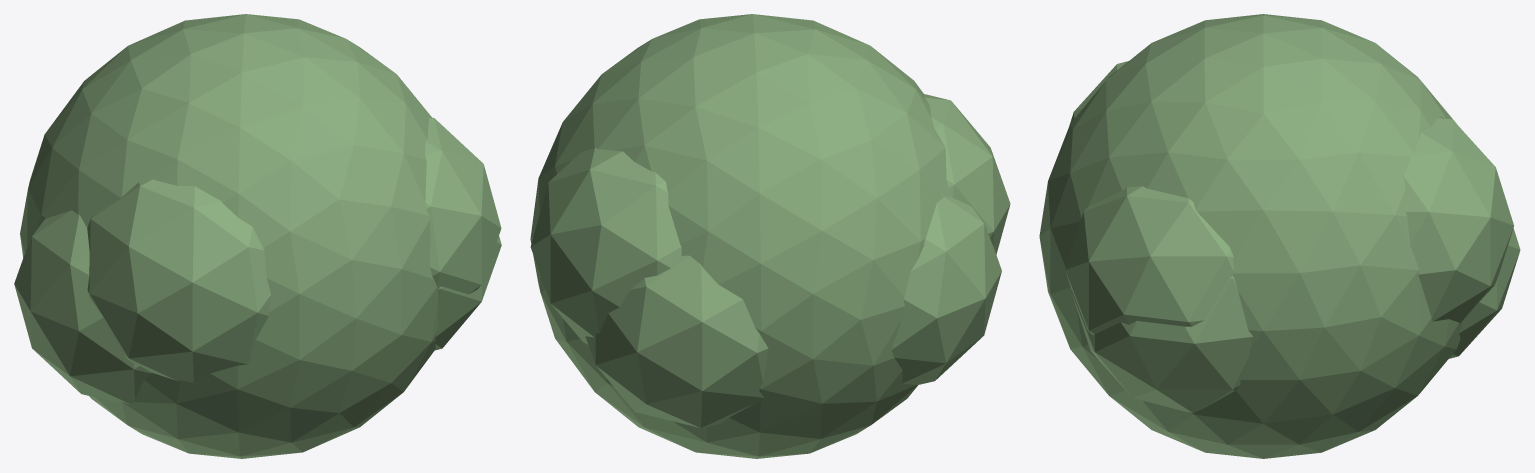
The model's file is bush.glb.
3 renders of one model, left to right at view 1: azimuth 30°, elevation 25°; view 2: azimuth 150°, elevation 25°; view 3: azimuth 270°, elevation 25°, orthographic.
Visible parts, largest first — view 1: bush_hedge; view 2: bush_hedge; view 3: bush_hedge.
Part boxes in pixels (x1,y1,x2,y2): bush_hedge: (14,14,501,458); bush_hedge: (530,14,1010,458); bush_hedge: (1039,14,1520,458).
Bounding box in the file's own units: 1.11 × 1 × 1.07.
